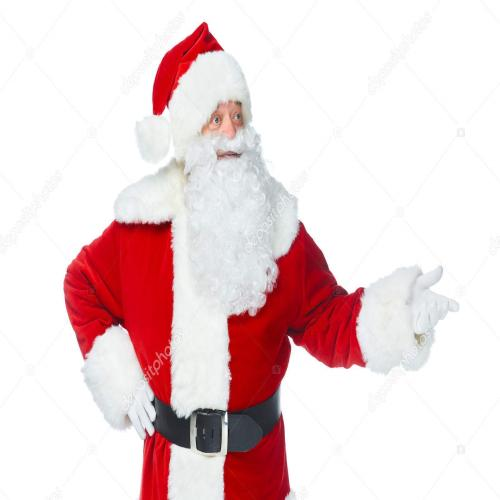Santa: (62, 21, 460, 498)
